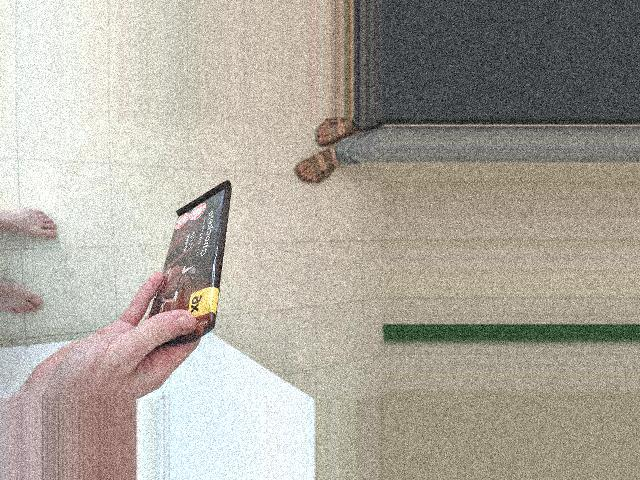chocolate: (135, 173, 242, 359)
